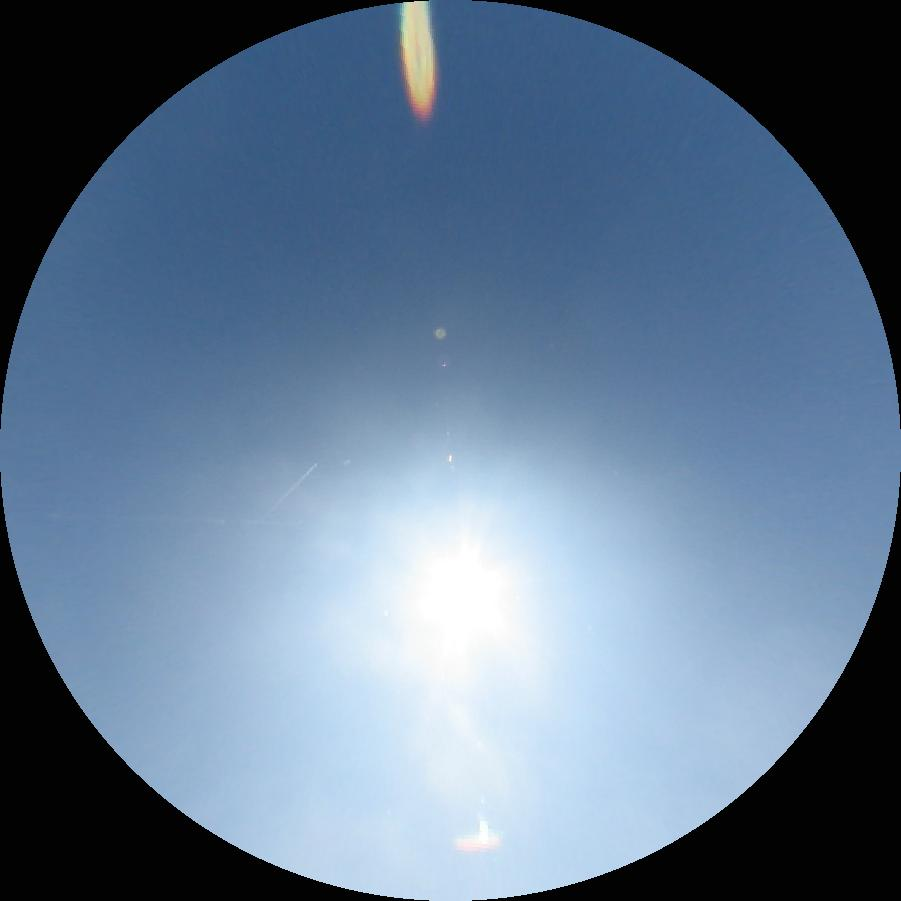contrail young: (264, 462, 318, 515)
sun: (398, 536, 515, 680)
